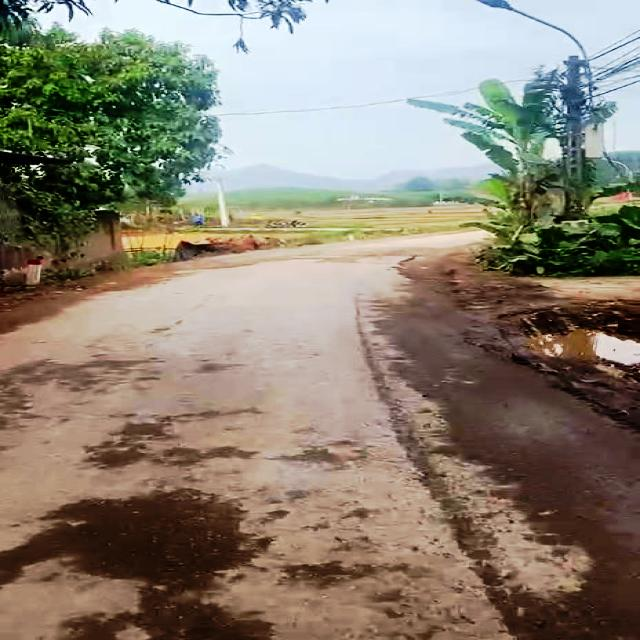pothole: (503, 331, 640, 368)
